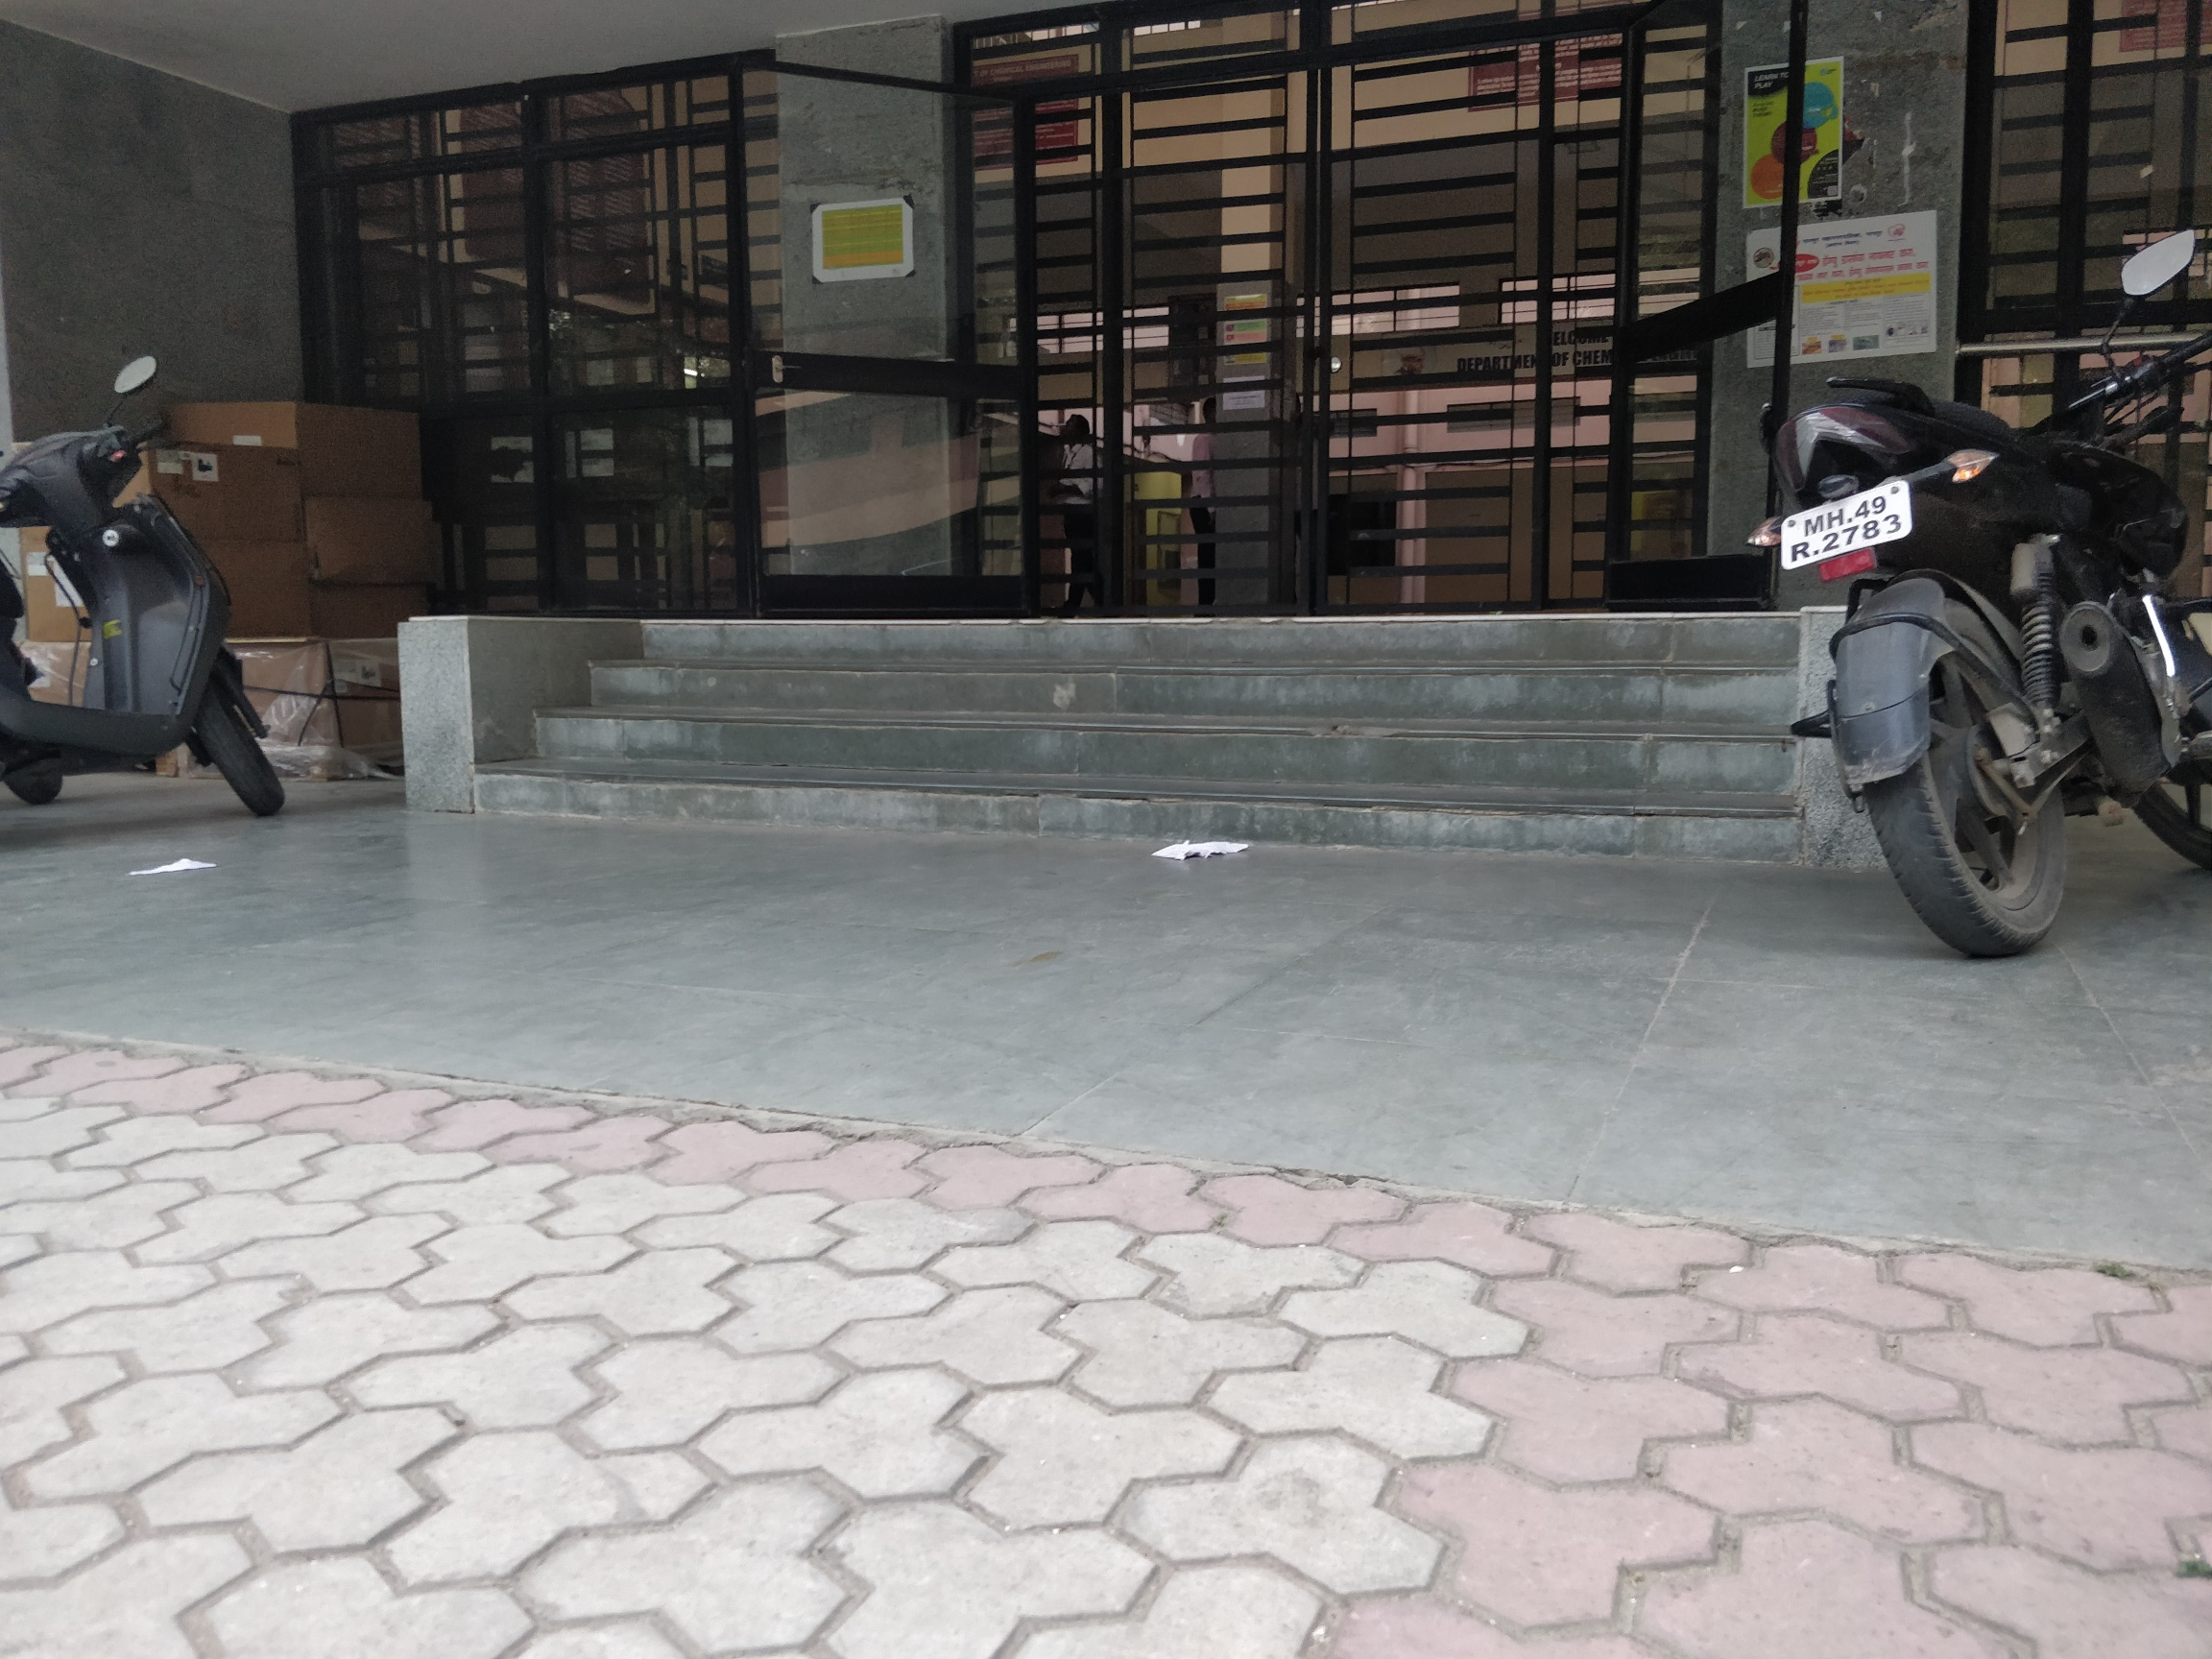stairs_up: (465, 606, 1791, 856)
